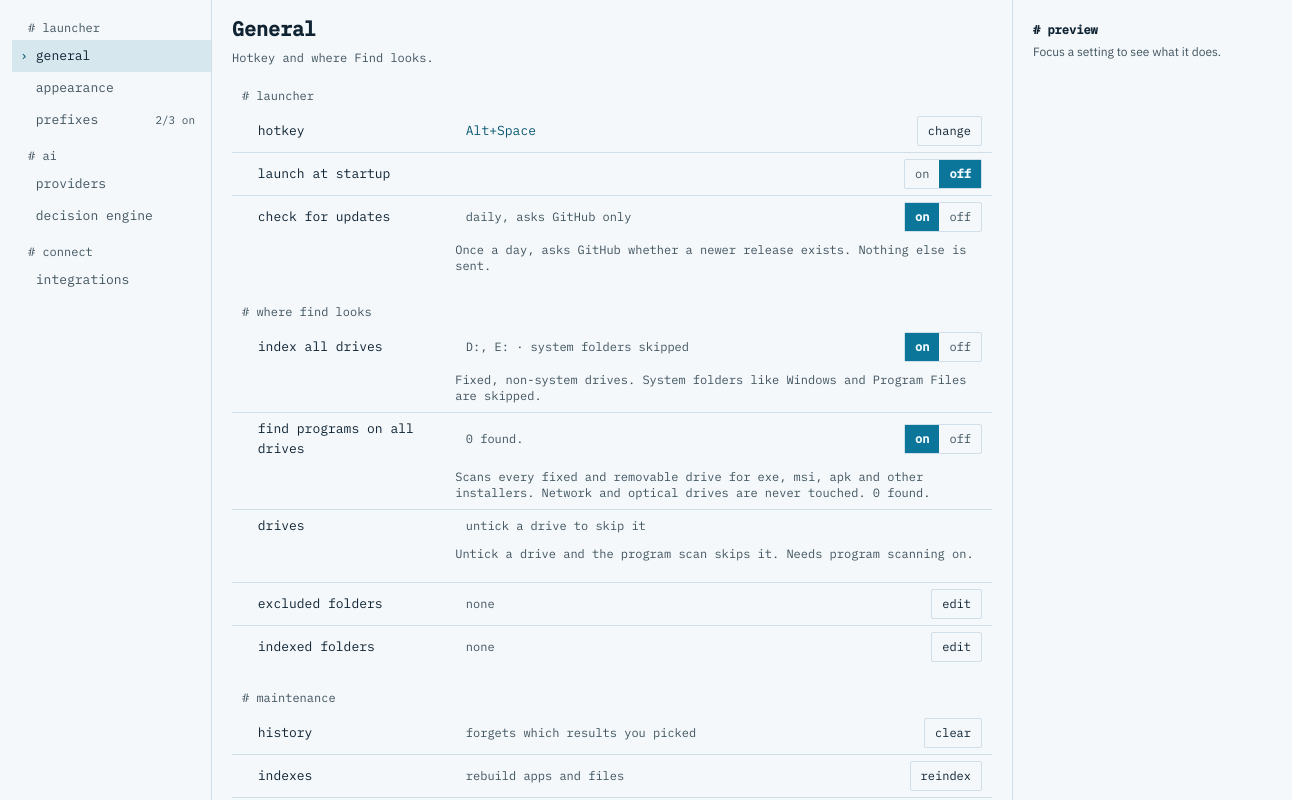
it: SettingsApp › clear history needs a second confirming click
Click the button "clear" at [953, 733], box top-left (924, 718), bottom-right (982, 748)
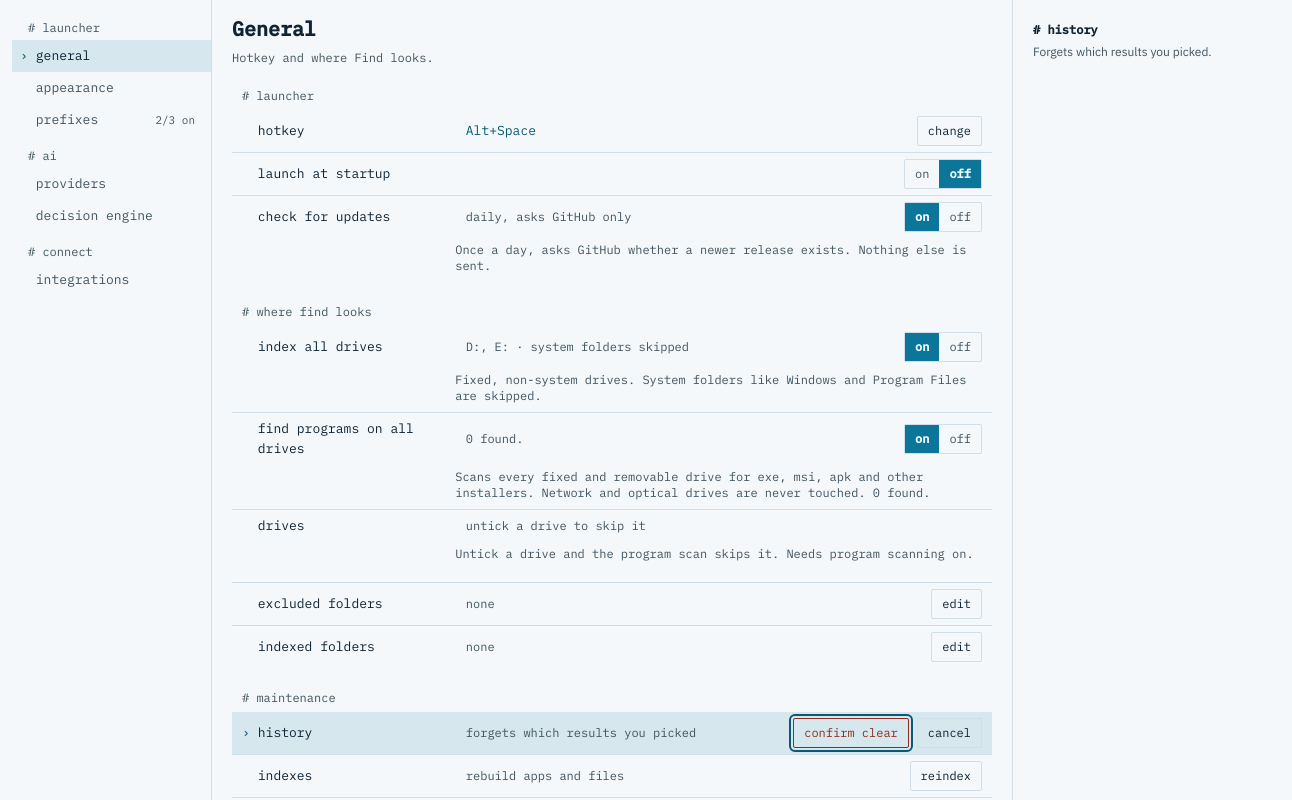
Click the button "confirm clear" at [851, 733], box top-left (793, 718), bottom-right (909, 748)
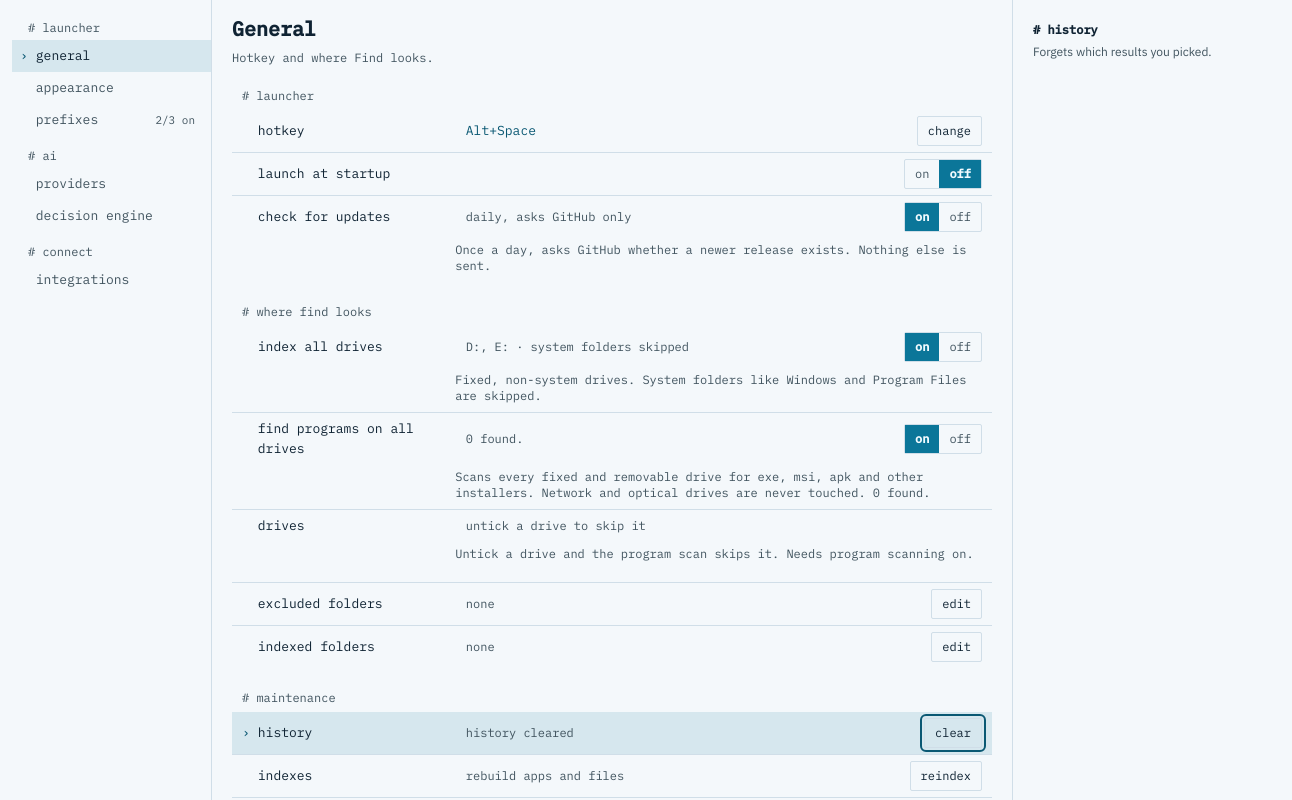
Expected: the button "confirm clear" is gone
